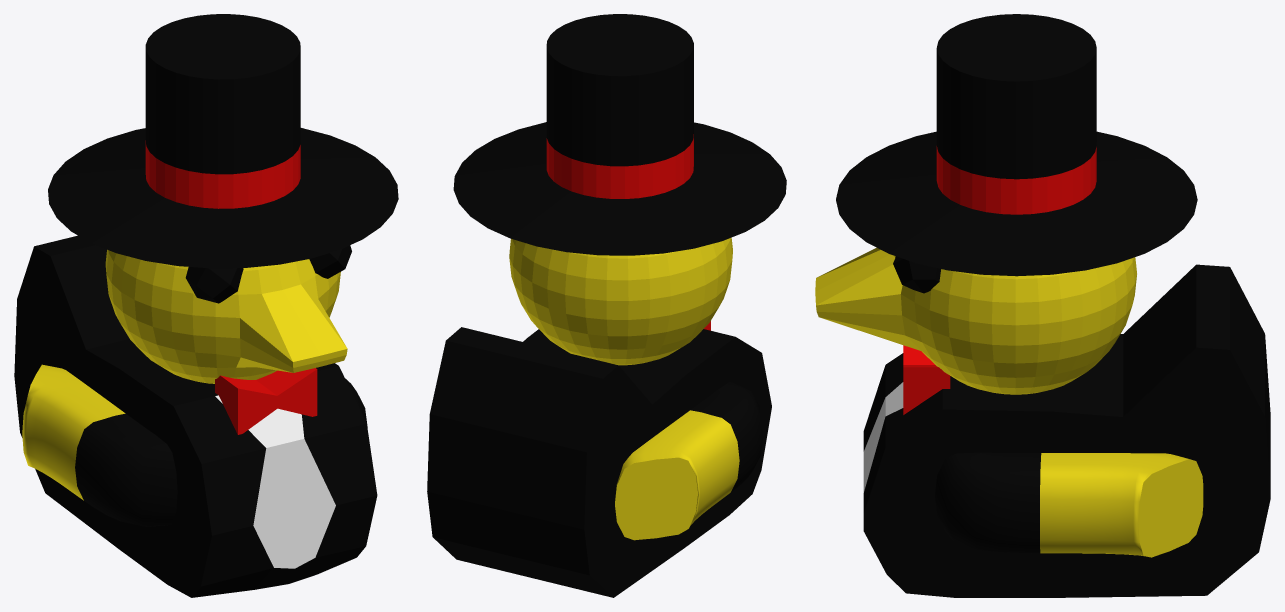
File: Dapper_Duck.fbx
3 renders of one model, left to right at view 1: azimuth 30°, elevation 25°; view 2: azimuth 150°, elevation 25°; view 3: azimuth 270°, elevation 25°, orthographic. The views are drawn at different scales.
Parts seen in each view (by area): view 1: Cube, Cylinder, Sphere, BézierCurve, Cube.001, Sphere.001, Sphere.002; view 2: Cube, Cylinder, Sphere, BézierCurve; view 3: Cube, Cylinder, Sphere, BézierCurve.001, Cube.001, Sphere.002.
Boxes of the visible parts, x1,y1,x2,y2 form: Cube: [14, 235, 377, 597]; Cylinder: [48, 14, 398, 268]; Sphere: [105, 249, 347, 383]; BézierCurve: [22, 364, 177, 526]; Cube.001: [215, 368, 317, 434]; Sphere.001: [185, 267, 243, 303]; Sphere.002: [309, 245, 351, 278]; Cube: [427, 327, 771, 597]; Cylinder: [453, 14, 786, 255]; Sphere: [509, 237, 732, 365]; BézierCurve: [615, 382, 763, 540]; Cube: [863, 264, 1270, 597]; Cylinder: [836, 14, 1197, 276]; Sphere: [815, 247, 1136, 394]; BézierCurve.001: [935, 452, 1203, 557]; Cube.001: [903, 345, 950, 414]; Sphere.002: [893, 256, 941, 293].
Bounding box in the file's own units: 768 × 1194 × 966.
